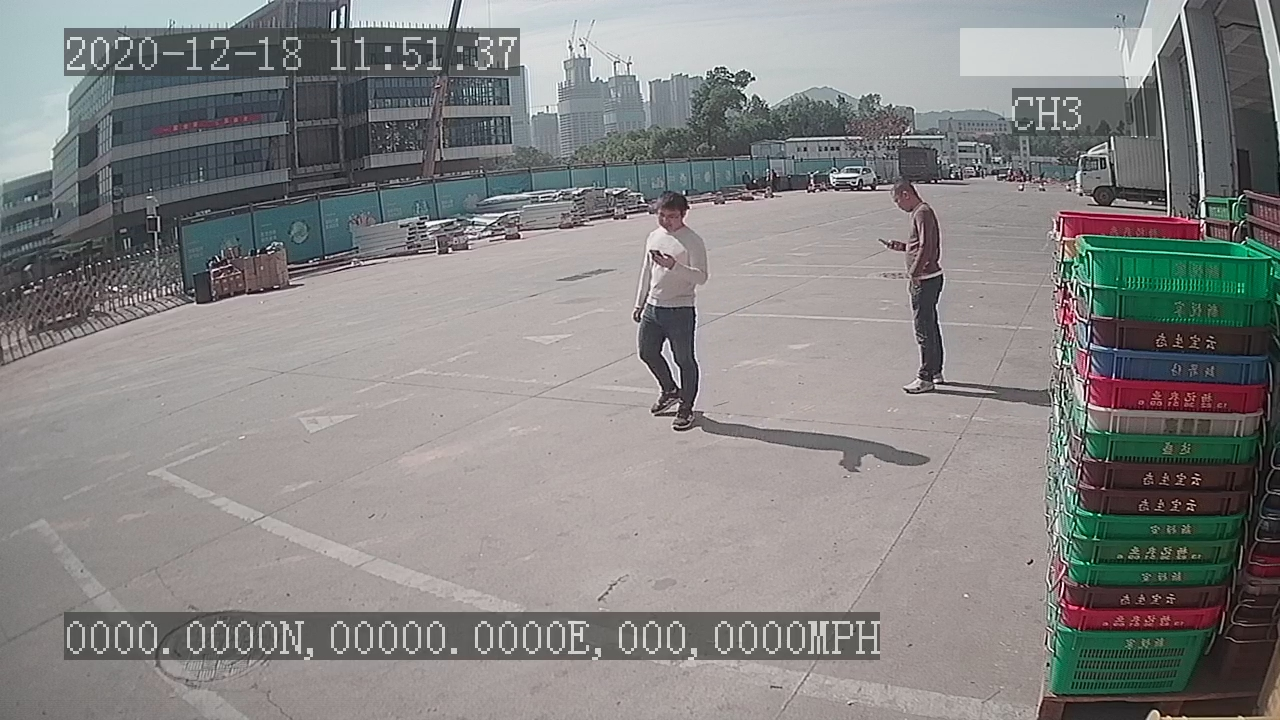person: (629, 188, 715, 438), (874, 177, 954, 399)
